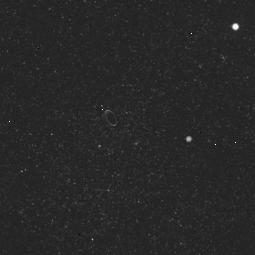debris: (96, 106, 122, 130)
